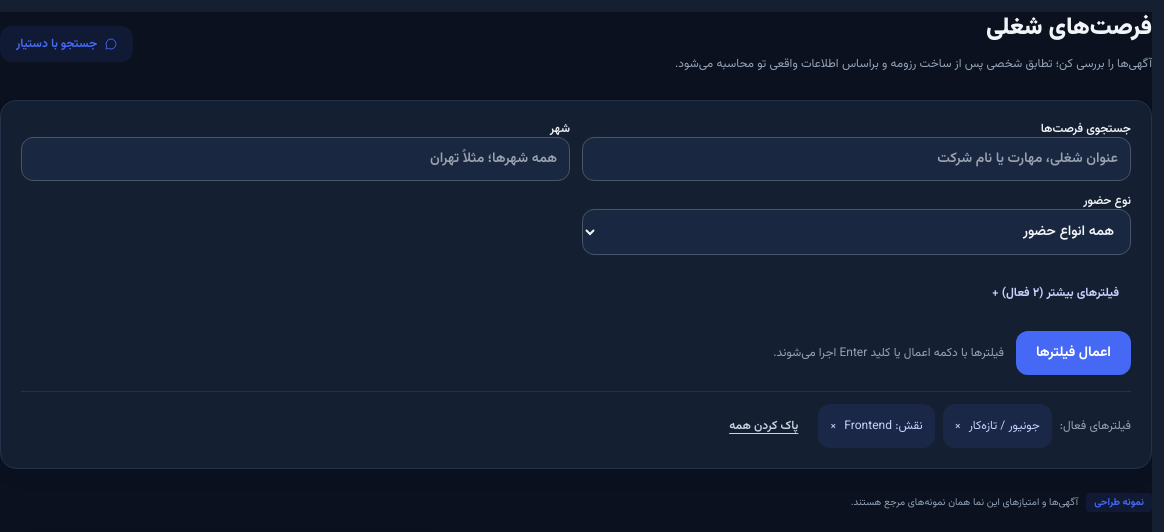
Test case: Reference job discovery › removes filter chips
Click the button with aria-label "حذف جونیور / تازه‌کار" at [997, 426], box x1=943 y1=404 x2=1052 y2=448
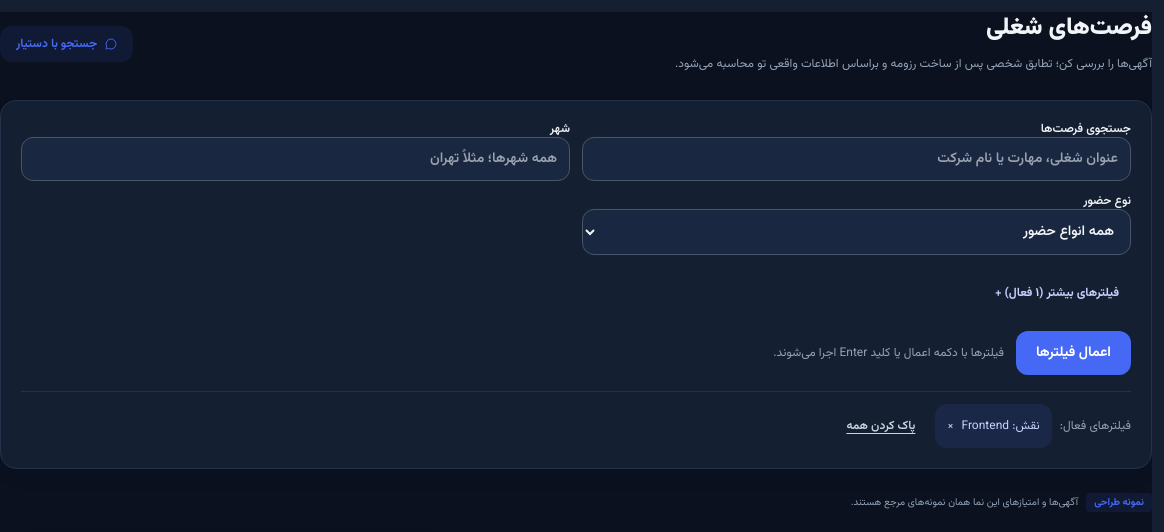
Click the button with aria-label "حذف نقش: Frontend" at [994, 426], box x1=935 y1=404 x2=1052 y2=448
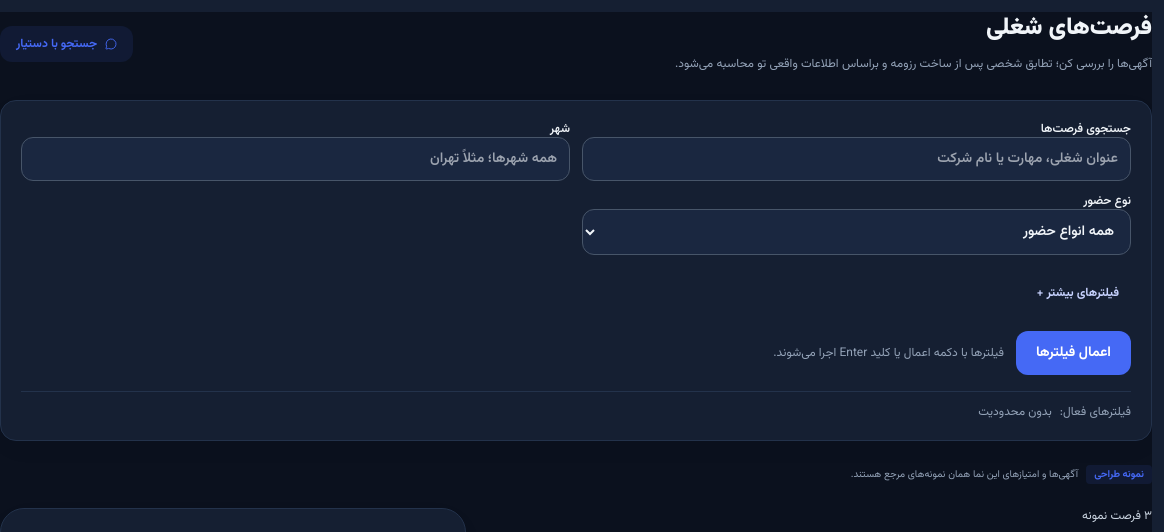
Now the text "بدون محدودیت" is shown, box x1=978 y1=404 x2=1052 y2=420
